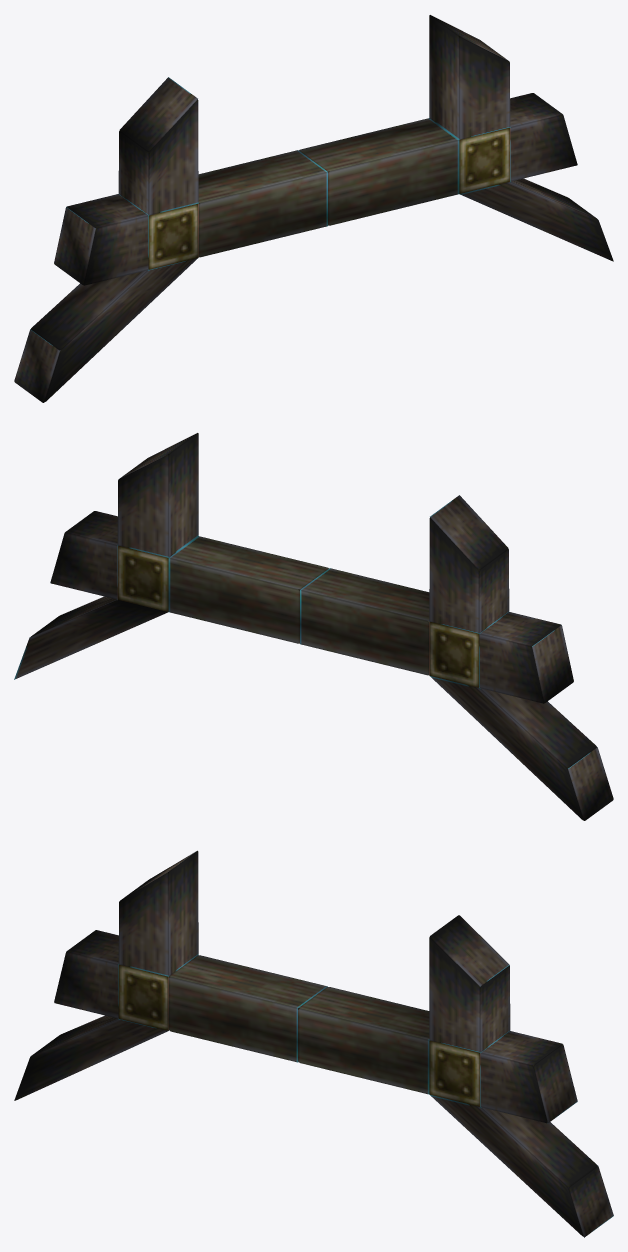
3 views of the same model, one above another, from view 1: azimuth 30°, elevation 25°; view 2: azimuth 150°, elevation 25°; view 3: azimuth 330°, elevation 25° (orthographic).
Visible parts, largest first — view 1: T1L1M003_11; view 2: T1L1M003_11; view 3: T1L1M003_11.
Part boxes in pixels (left/top/right/bottom): T1L1M003_11: left=14, top=15, right=613, bottom=402; T1L1M003_11: left=14, top=433, right=613, bottom=820; T1L1M003_11: left=14, top=850, right=613, bottom=1237.
Size of the model in its own units: 4.4 by 1.97 by 0.3994.
Materials: 1 (1 with a texture image).
